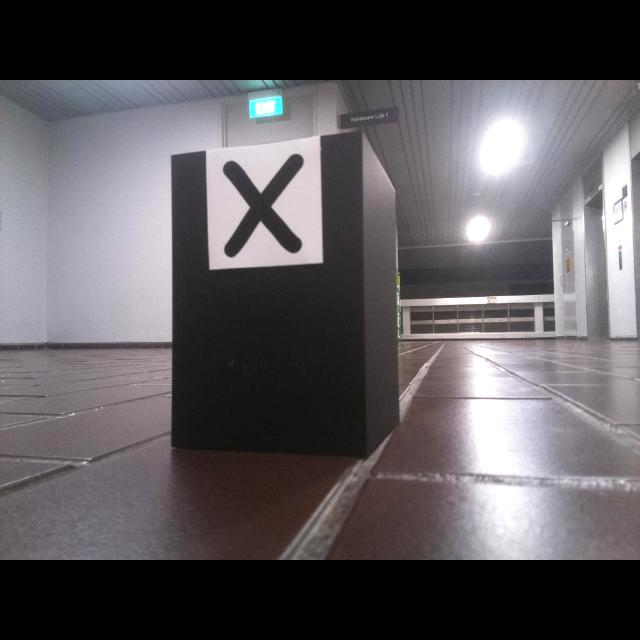X: (223, 153, 305, 258)
